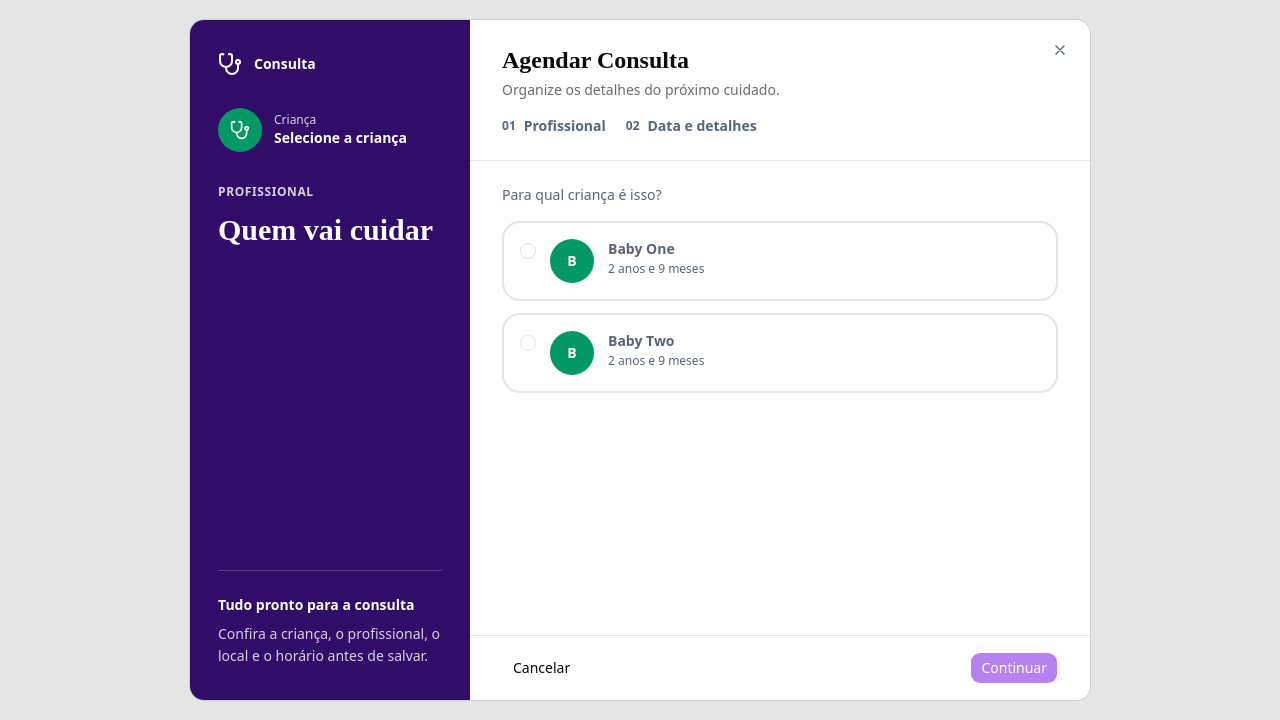
Scenario: AddAppointmentDialog › shows a baby picker first when the household has more than one child, and gates progress on a choice
Expected: the text "Baby One" is shown, 608,239 -> 675,258
Expected: the field labelled "Nome do Profissional" is not shown
Click the text "Baby Two" at [641, 340], box 608,331 -> 674,350
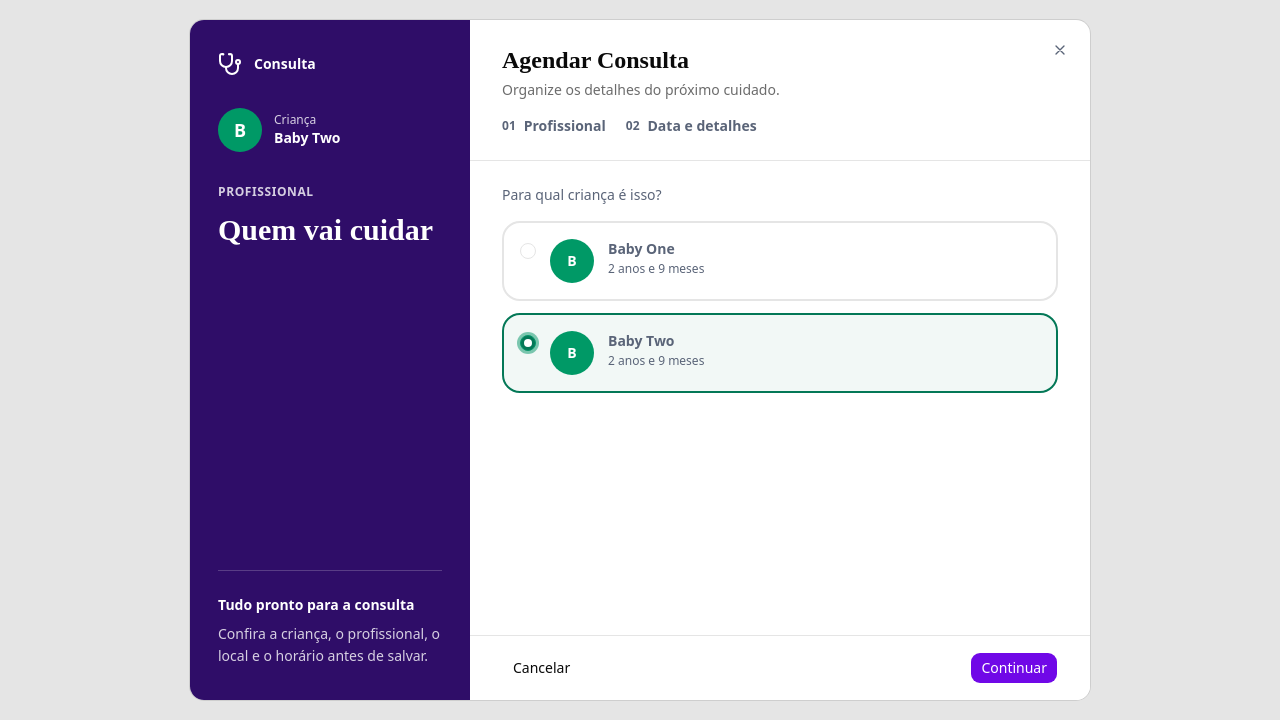
Expected: the button "Continuar" is enabled
Click the button "Continuar" at [1014, 668], box 970,652 -> 1058,684
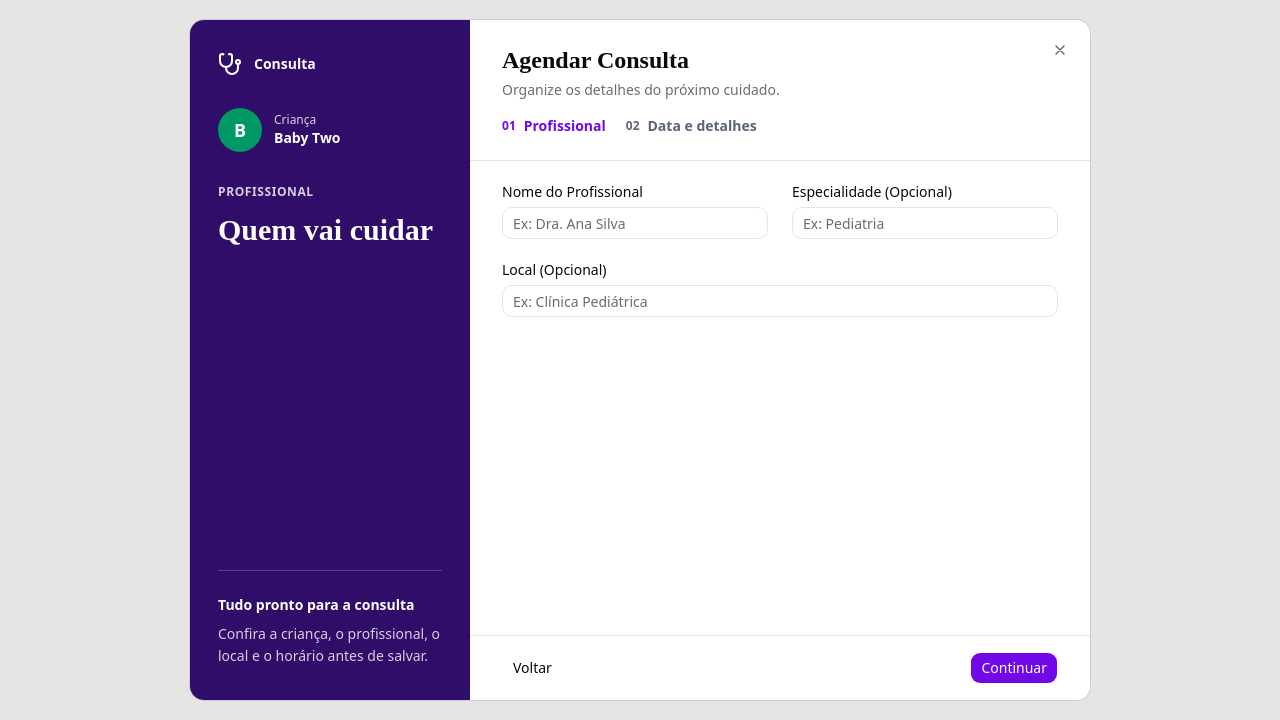
Expected: the dropdown labelled "Nome do Profissional" is shown, 502,207 -> 768,239
